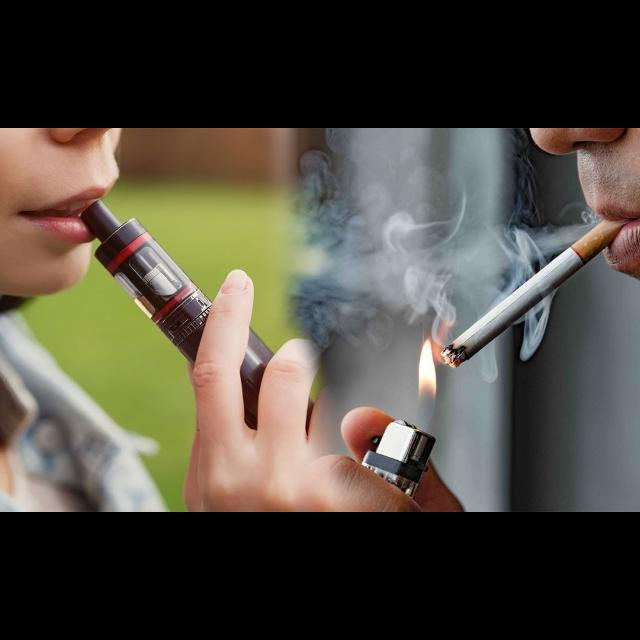rokok: (442, 210, 614, 370)
